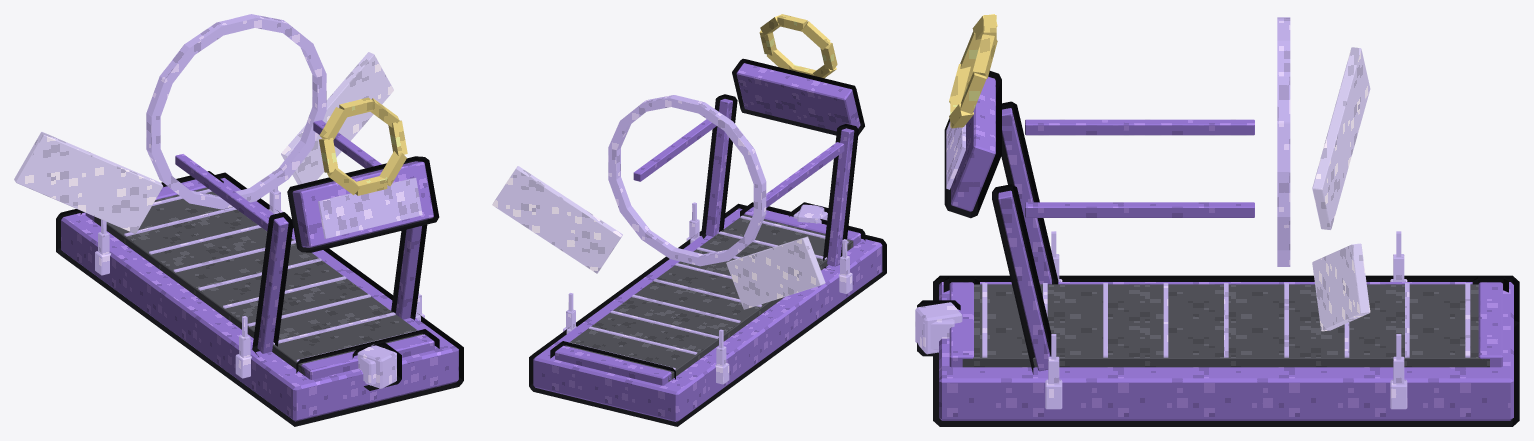
Rendered from treadmill_18.glb.
The picture shows the model from 3 angles, left to right: view 1: azimuth 30°, elevation 25°; view 2: azimuth 150°, elevation 25°; view 3: azimuth 270°, elevation 25°; orthographic projection. The views are drawn at different scales.
Parts seen in each view (by area): view 1: model; view 2: model; view 3: model.
Part boxes in pixels (<box>): model: <box>14,14,463,426</box>; model: <box>492,14,886,426</box>; model: <box>915,14,1519,426</box>.
Size of the model in its own units: 2.74 by 2 by 3.09.
Materials: 6 (5 with a texture image).
